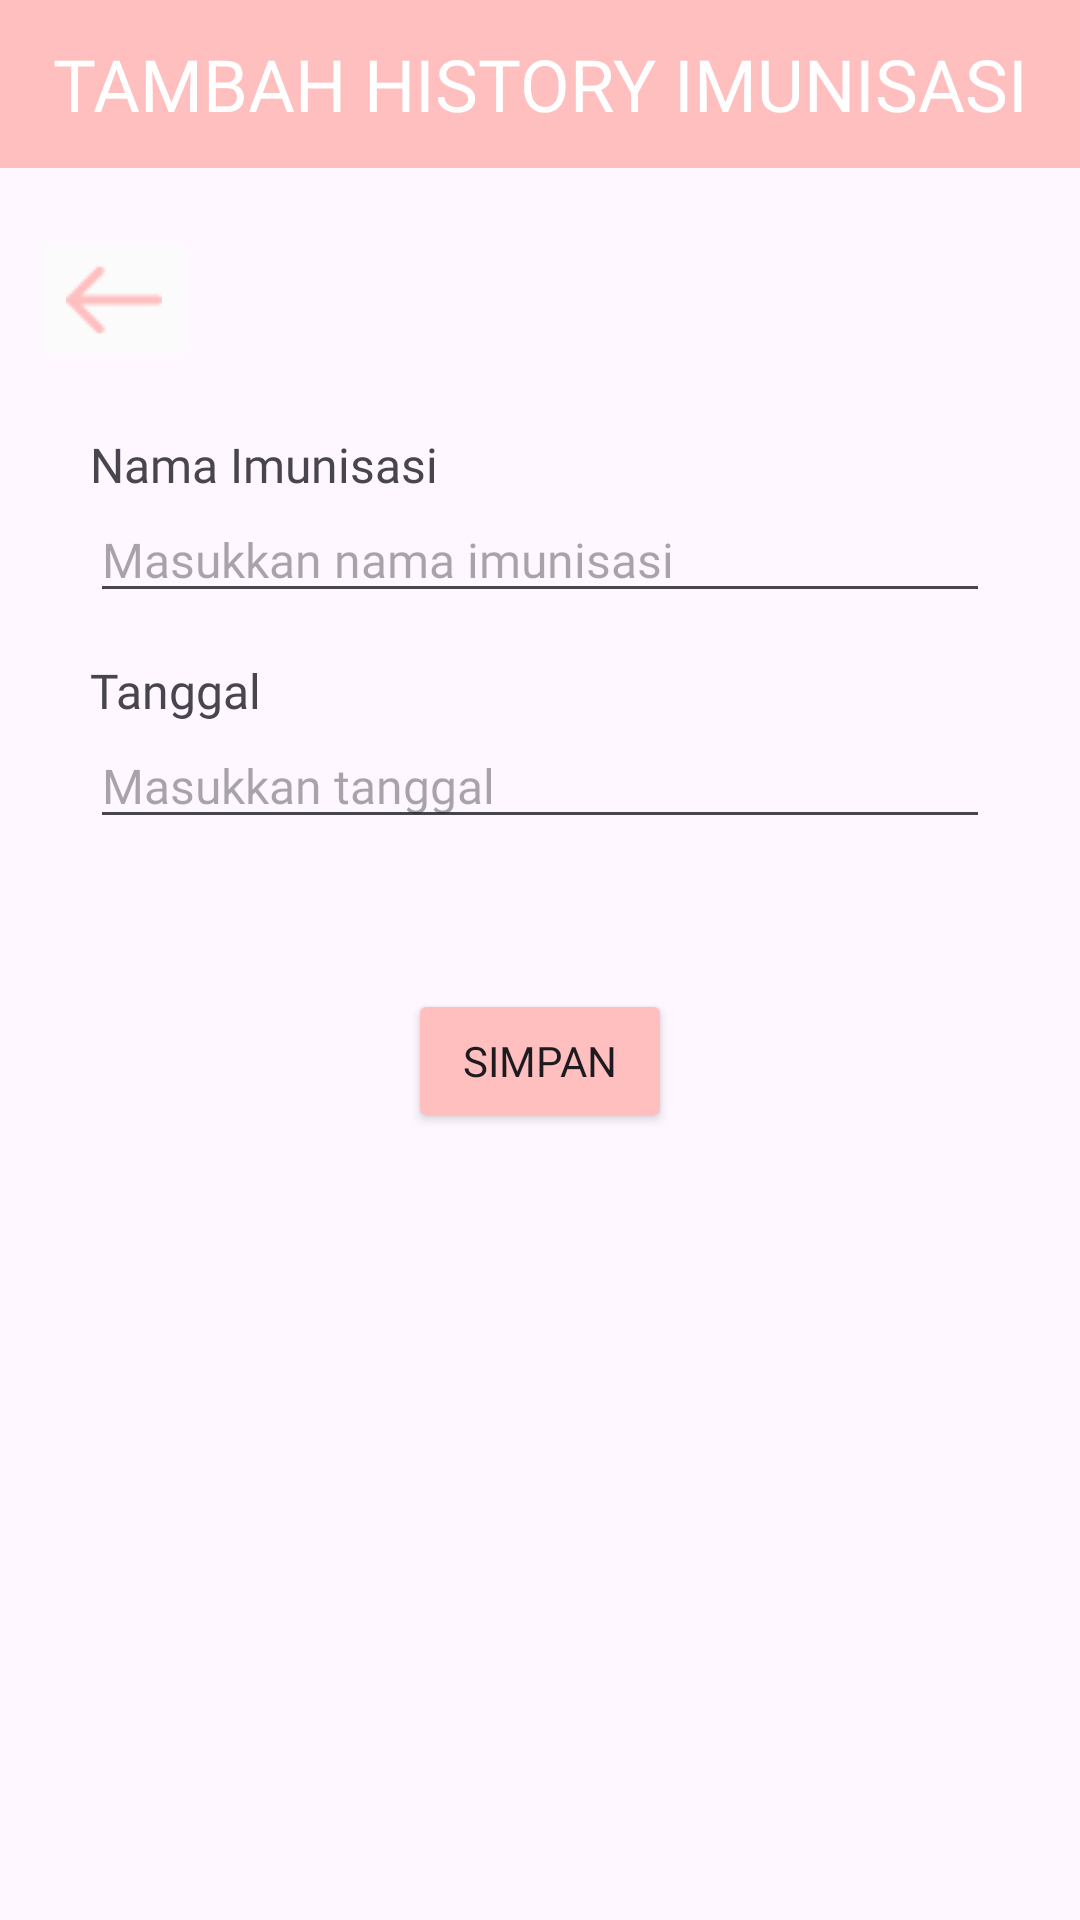

Point at icon controls on the screen. Image size 1080x1920, points as (x=x, y=y).
Back: (x=114, y=300)
